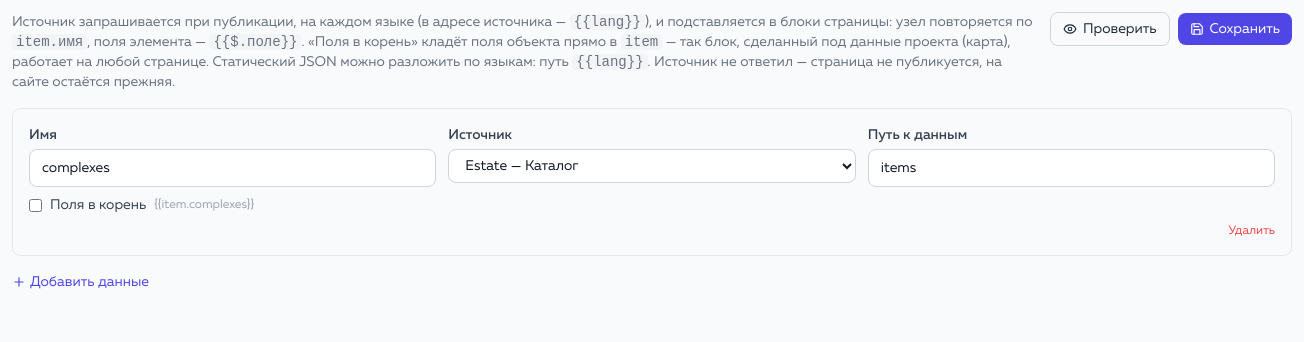
Test case: PagePublishData › ошибка сохранения видна пользователю
This screenshot has width=1304, height=342.
Check: the field showing "complexes" is shown, box top-left (29, 149), bottom-right (436, 187)
Click the button "Сохранить": (1235, 29) top-left (1178, 13), bottom-right (1292, 45)
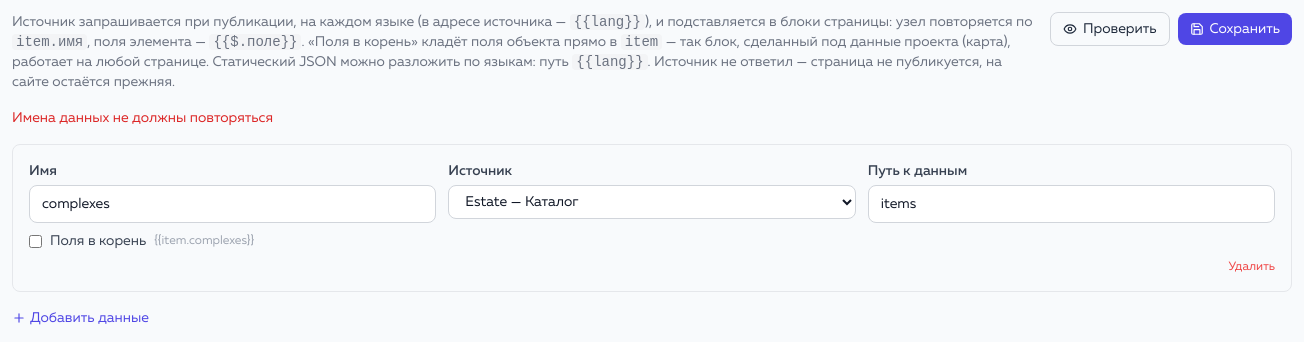
Check: the text "Имена данных не должны повторяться" is shown, box top-left (12, 111), bottom-right (273, 125)
